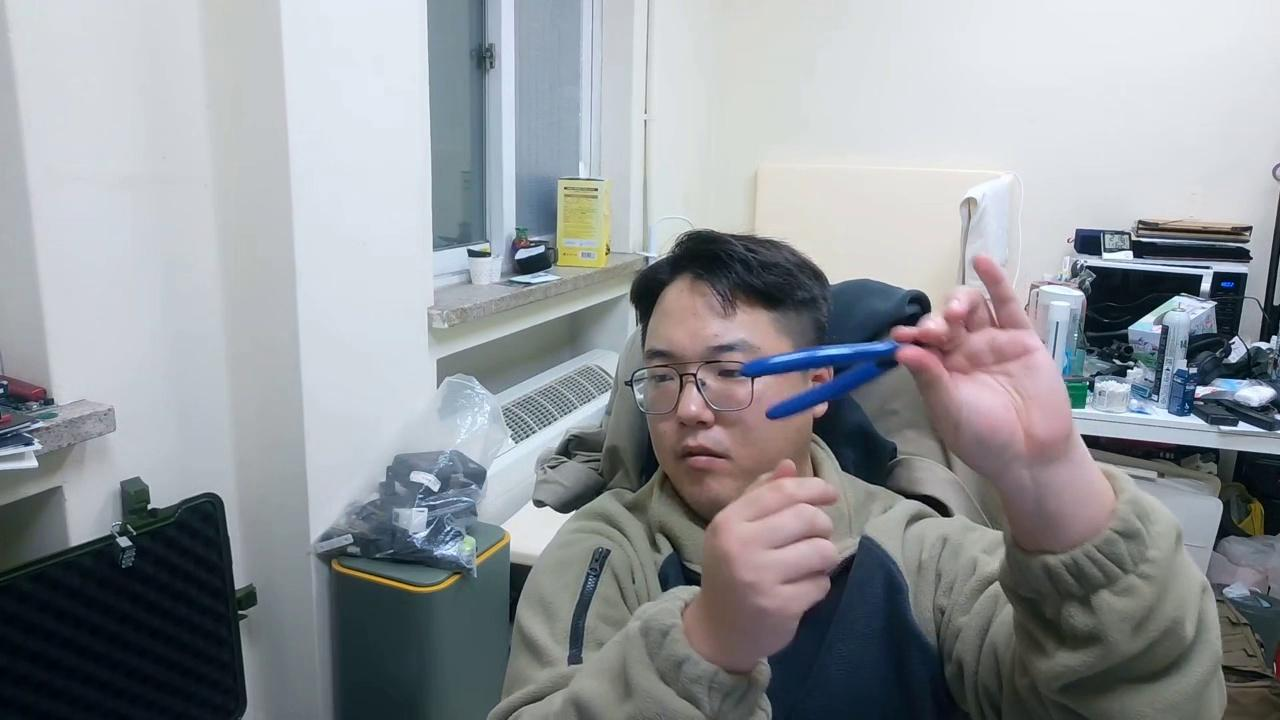blue_pliers: (738, 337, 904, 422)
